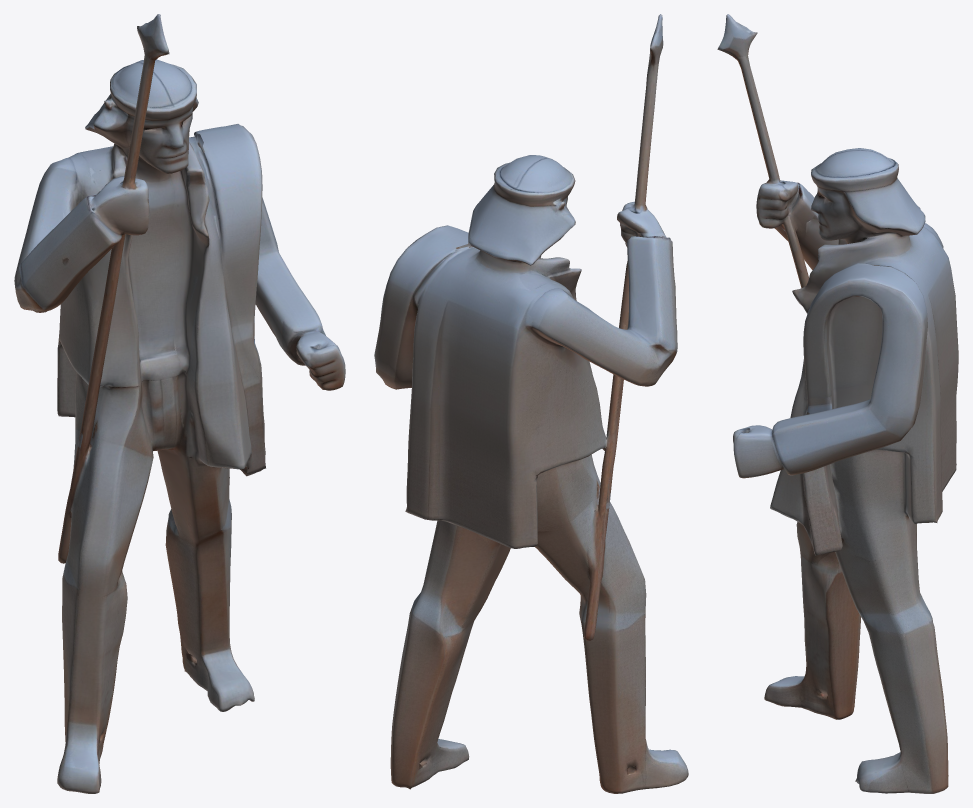
File: SM_AndresitoGuacurari_Statue_01.fbx
The picture shows the model from 3 angles, left to right: view 1: azimuth 30°, elevation 25°; view 2: azimuth 150°, elevation 25°; view 3: azimuth 270°, elevation 25°; orthographic projection. The views are drawn at different scales.
Visible parts, largest first — view 1: SM_AndresitoGuacurari_Statue_01; view 2: SM_AndresitoGuacurari_Statue_01; view 3: SM_AndresitoGuacurari_Statue_01.
Boxes of the visible parts, x1=… form: SM_AndresitoGuacurari_Statue_01: x1=14, y1=14, x2=345, y2=793; SM_AndresitoGuacurari_Statue_01: x1=374, y1=14, x2=688, y2=793; SM_AndresitoGuacurari_Statue_01: x1=717, y1=14, x2=958, y2=793.
Bounding box in the file's own units: 0.3696 × 0.9761 × 0.303.
